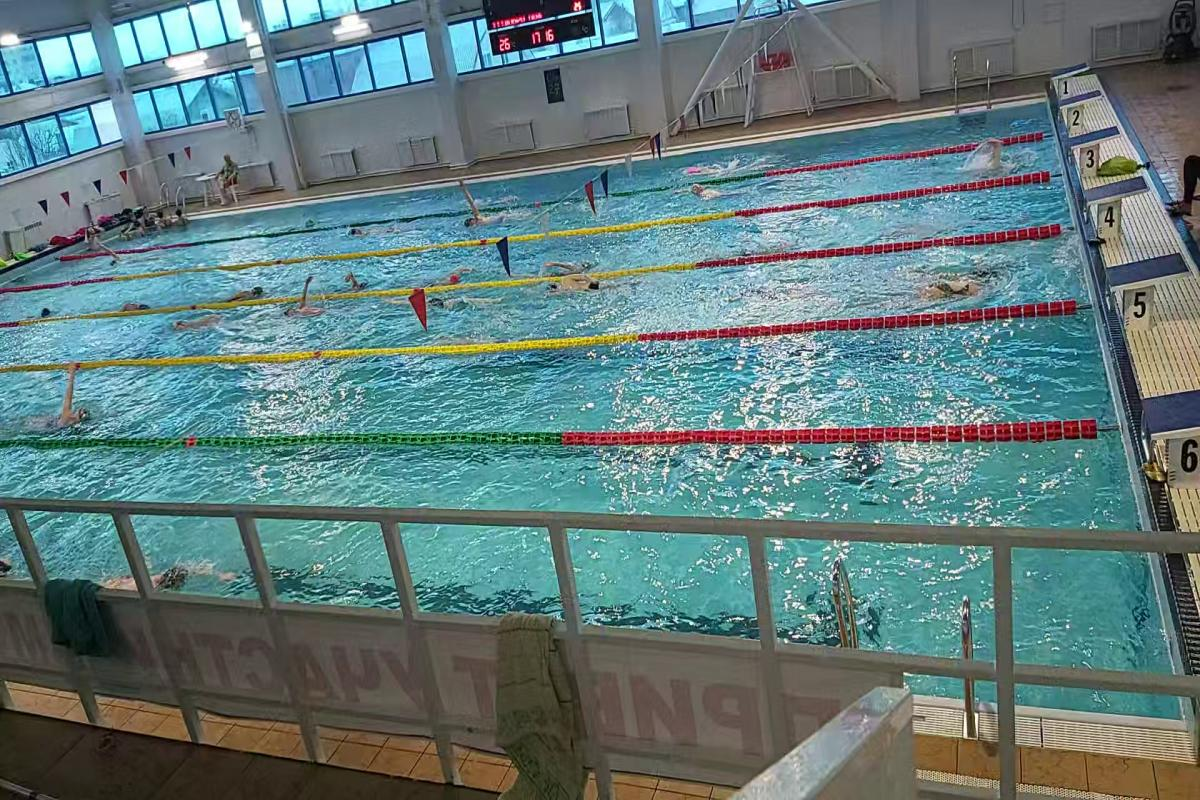swimmer: (102, 542, 244, 595), (28, 365, 94, 432), (910, 264, 1008, 306), (454, 188, 526, 228), (537, 274, 628, 298), (428, 290, 508, 316), (284, 278, 328, 321), (683, 178, 748, 203), (540, 252, 606, 272), (173, 314, 228, 330), (223, 284, 273, 300), (338, 269, 373, 288)
